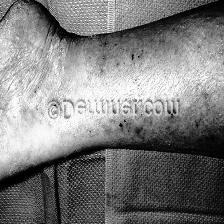Toxin: (0, 2, 36, 174), (79, 36, 174, 95), (97, 116, 224, 146)
